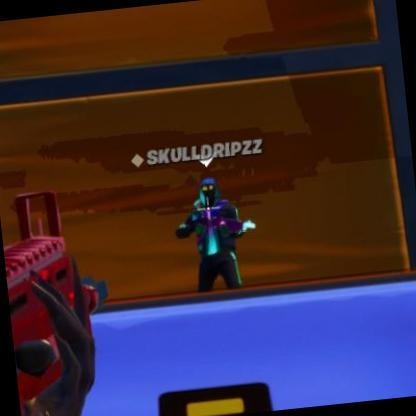person: (171, 175, 254, 294)
